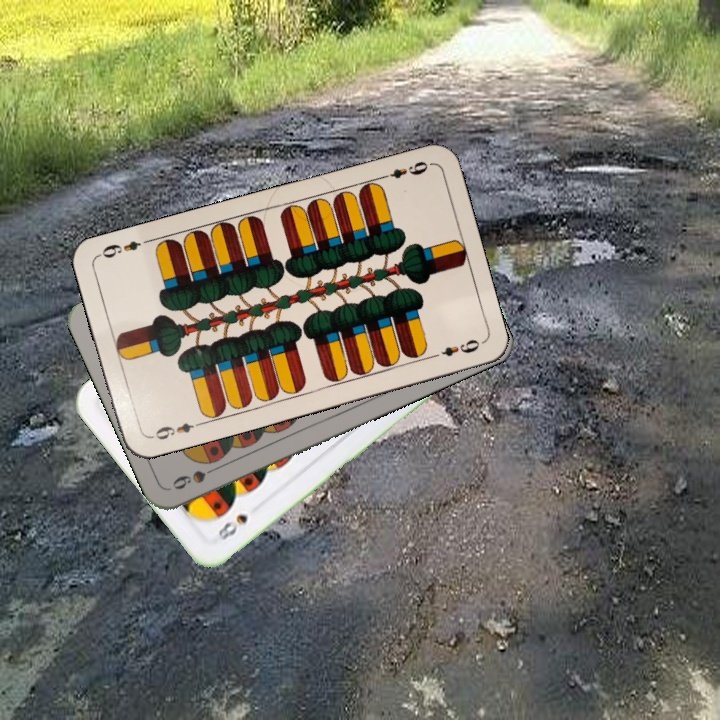E9: (146, 418, 204, 443), (375, 157, 431, 182)
S8: (211, 510, 250, 543)
S9: (168, 461, 224, 492)
